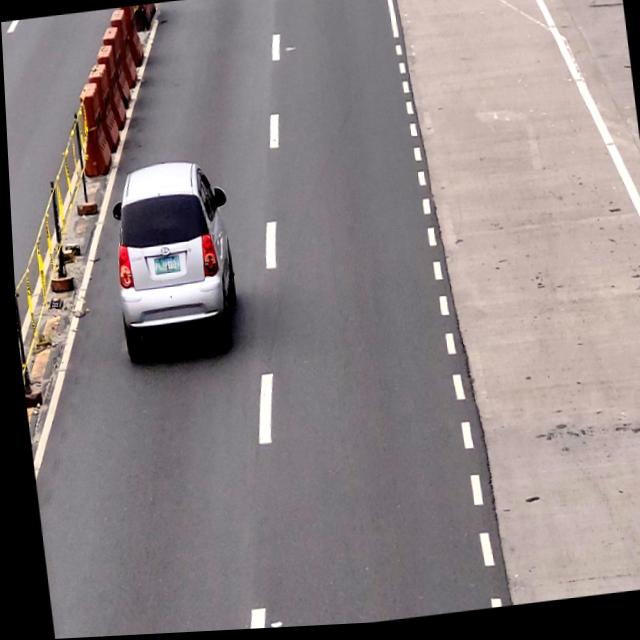Car: (101, 161, 238, 363)
License-Plate: (149, 255, 179, 278)
